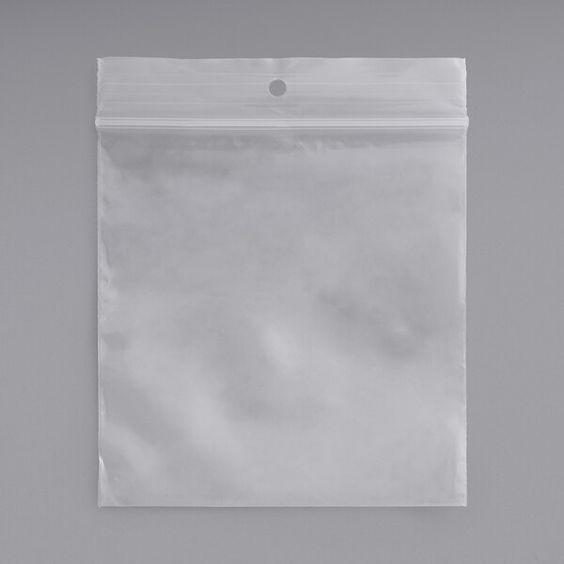LDPE: (39, 3, 542, 564)
